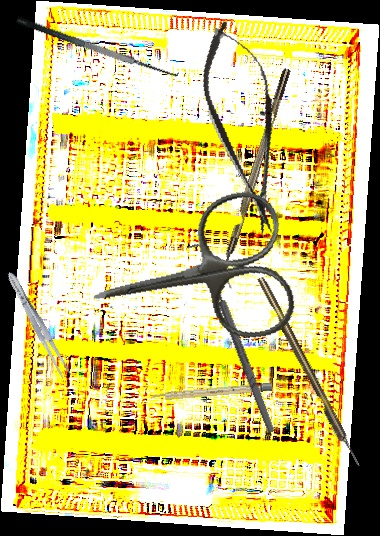Chopper: (213, 67, 302, 290)
Dressing Forceps: (3, 269, 73, 380)
Hook Surgical: (256, 275, 362, 470), (187, 240, 278, 437)
Iris Scissors: (78, 185, 301, 368)
Micro Scissor: (189, 14, 301, 242)
Scalpel Handle: (150, 382, 273, 402)
Spatula Surgical: (15, 2, 183, 85)
